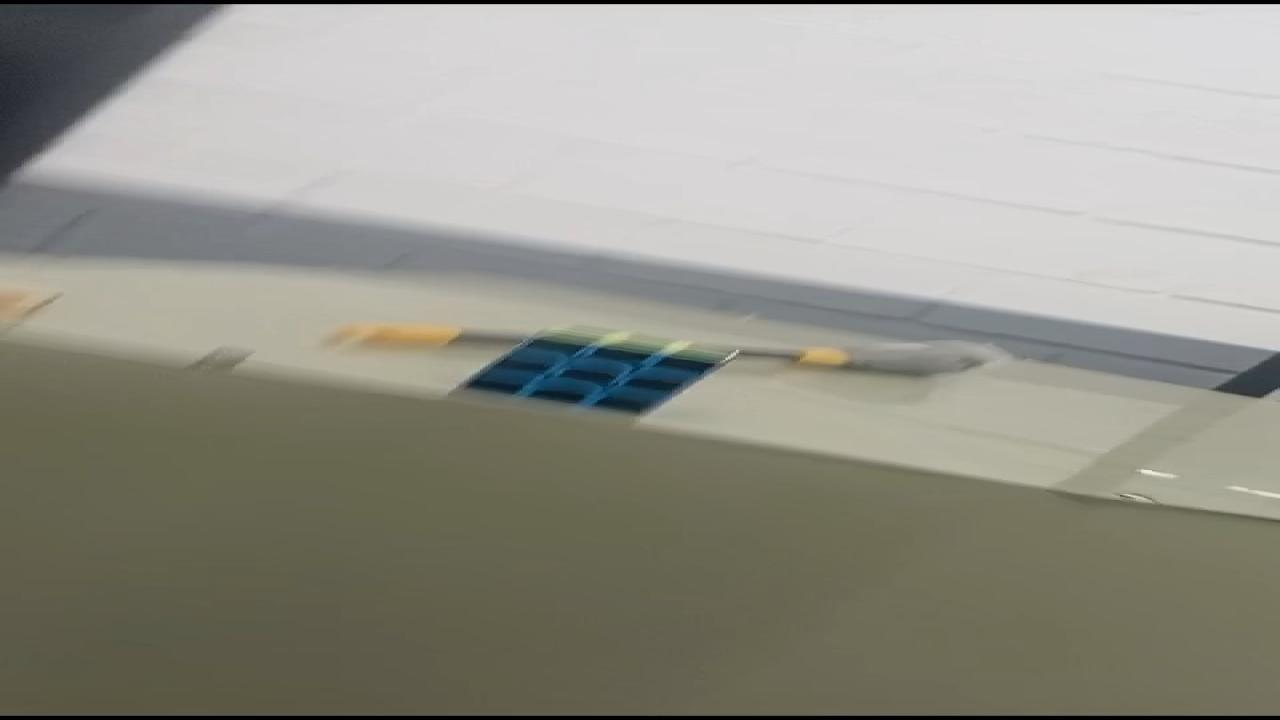Cube: (440, 323, 741, 422)
